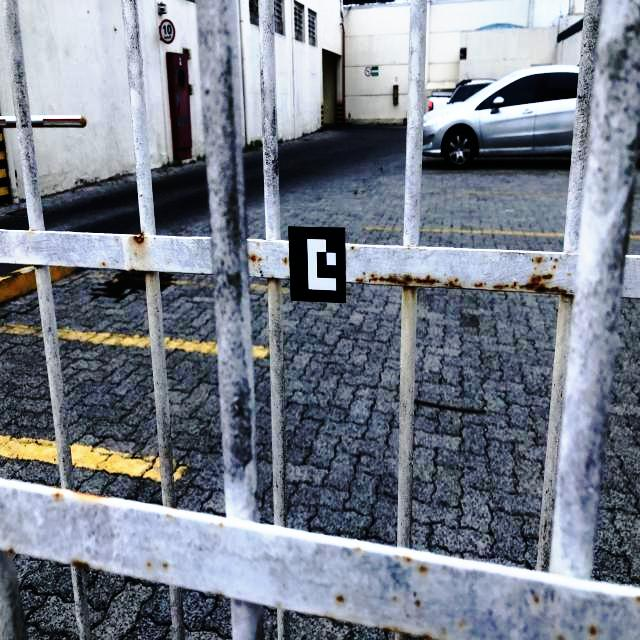Corrosion: (492, 256, 574, 298), (356, 272, 440, 286), (382, 625, 433, 640), (53, 488, 110, 499), (443, 279, 464, 289), (72, 559, 90, 569), (133, 232, 145, 244), (249, 254, 261, 263), (403, 554, 412, 562), (336, 595, 344, 604), (473, 282, 484, 288), (324, 614, 335, 620), (267, 276, 274, 284), (590, 626, 595, 637), (281, 256, 287, 264), (420, 566, 428, 572), (415, 600, 421, 607), (163, 563, 169, 569), (356, 547, 361, 552), (351, 245, 355, 251), (554, 258, 558, 263), (636, 597, 640, 602), (441, 628, 445, 633), (219, 521, 223, 526), (9, 548, 13, 553), (129, 268, 135, 271), (102, 262, 106, 266), (535, 598, 538, 603), (395, 554, 398, 559), (148, 562, 151, 567), (553, 265, 556, 269), (393, 596, 396, 600), (460, 621, 462, 626), (30, 229, 34, 231)
